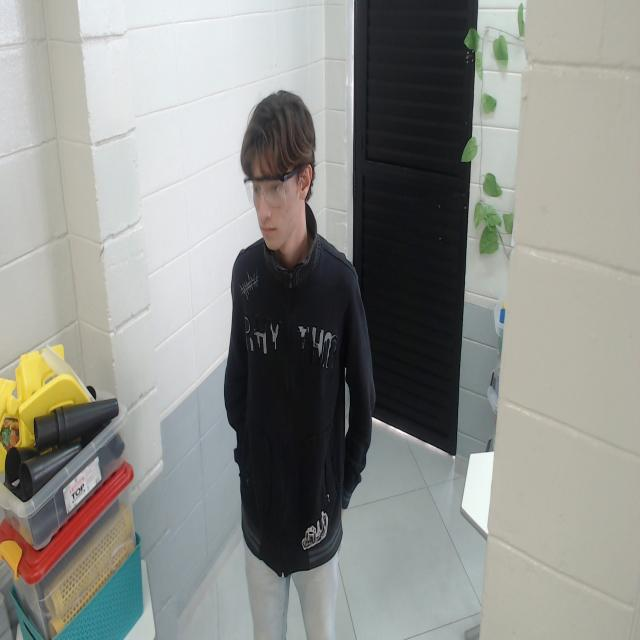oculos-epi: (237, 166, 312, 208)
